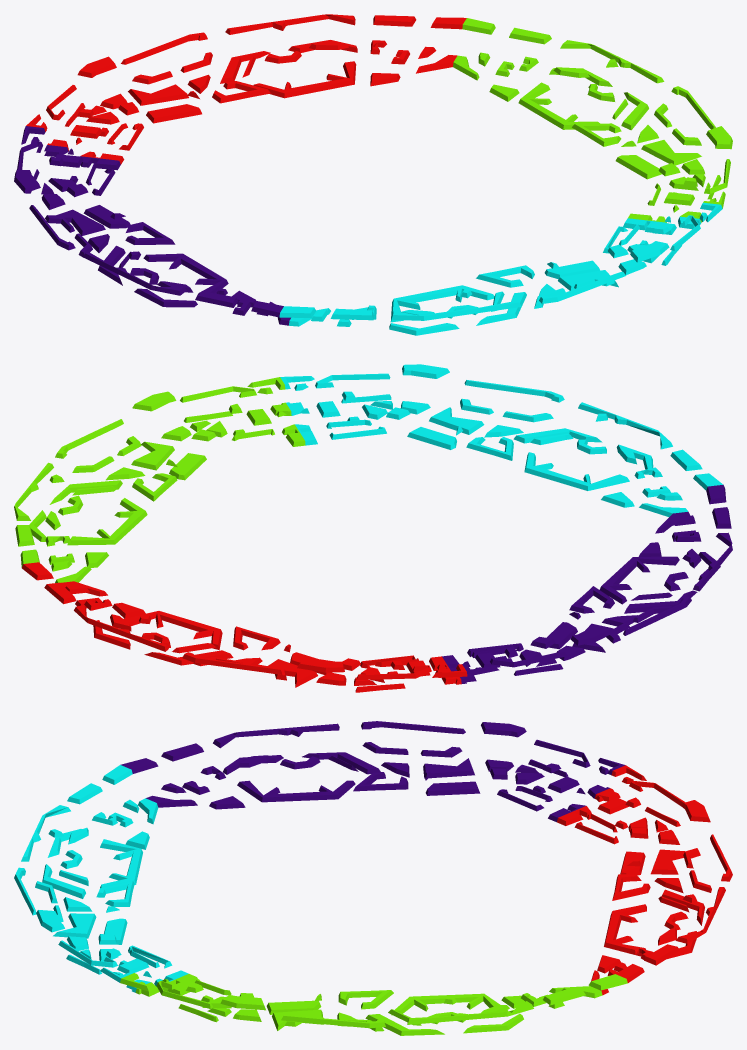
The model's file is toits (1).fbx.
3 views of the same model, one above another, from view 1: azimuth 30°, elevation 25°; view 2: azimuth 150°, elevation 25°; view 3: azimuth 270°, elevation 25° (orthographic).
Parts seen in each view (by area): view 1: Object430; view 2: Object430; view 3: Object430.
Part boxes in pixels (left/top/right/bottom): Object430: left=14, top=14, right=732, bottom=335; Object430: left=14, top=364, right=732, bottom=692; Object430: left=14, top=721, right=732, bottom=1035.
Bounding box in the file's own units: 479 × 29.67 × 479.
